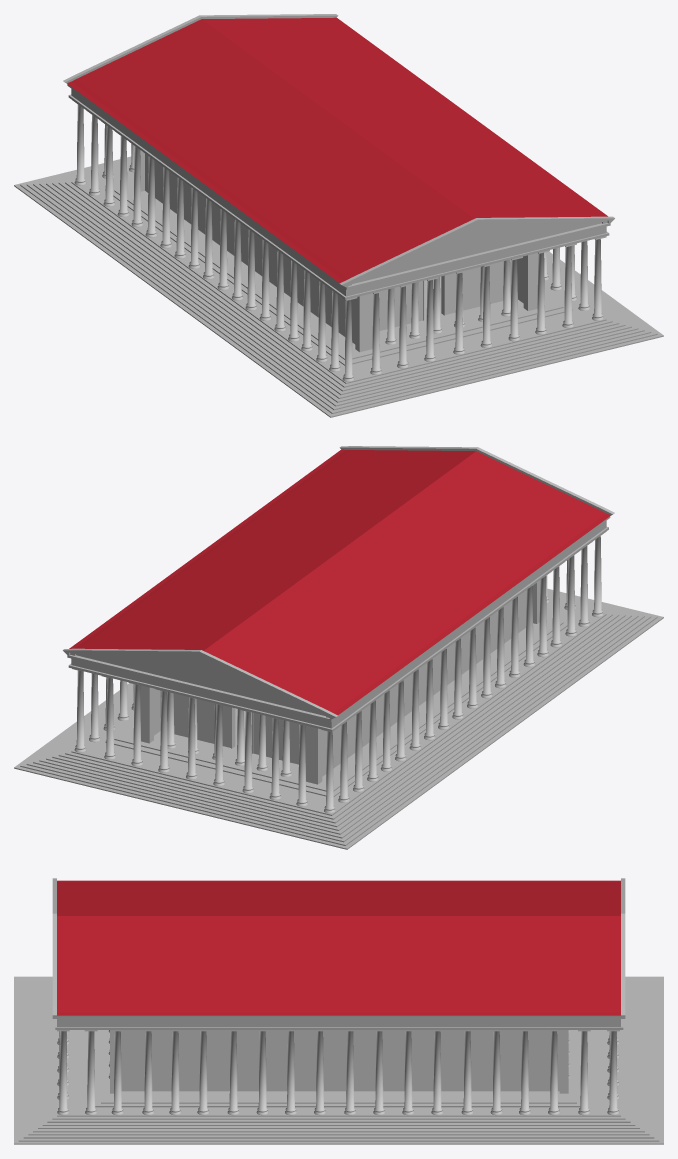
3 views of the same model, one above another, from view 1: azimuth 30°, elevation 25°; view 2: azimuth 150°, elevation 25°; view 3: azimuth 270°, elevation 25° (orthographic). The views are drawn at different scales.
Parts seen in each view (by area): view 1: Plane_030; view 2: Plane_030; view 3: Plane_030.
Part boxes in pixels (left/top/right/bottom): Plane_030: left=14, top=14, right=663, bottom=417; Plane_030: left=14, top=446, right=663, bottom=849; Plane_030: left=14, top=878, right=663, bottom=1144.
Size of the model in its own units: 33.54 by 13.84 by 55.2.
